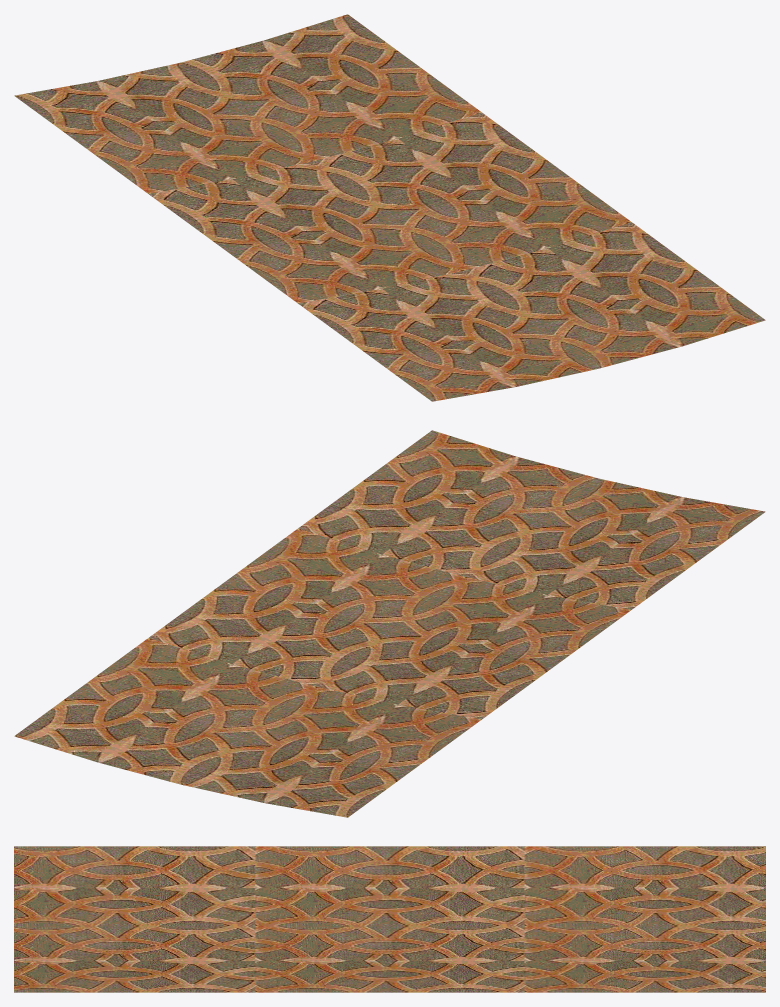
The model's file is rug 4.FBX.
3 renders of one model, top to bottom at view 1: azimuth 30°, elevation 25°; view 2: azimuth 150°, elevation 25°; view 3: azimuth 270°, elevation 25°, orthographic. The views are drawn at different scales.
Visible parts, largest first — view 1: rug 4 plain; view 2: rug 4 plain; view 3: rug 4 plain.
Part boxes in pixels (x1,y1,x2,y2): rug 4 plain: [14, 14, 765, 401]; rug 4 plain: [14, 430, 765, 817]; rug 4 plain: [14, 846, 765, 992].
Bounding box in the file's own units: 70.93 × 1.55 × 154.
1 material, 1 textured.
